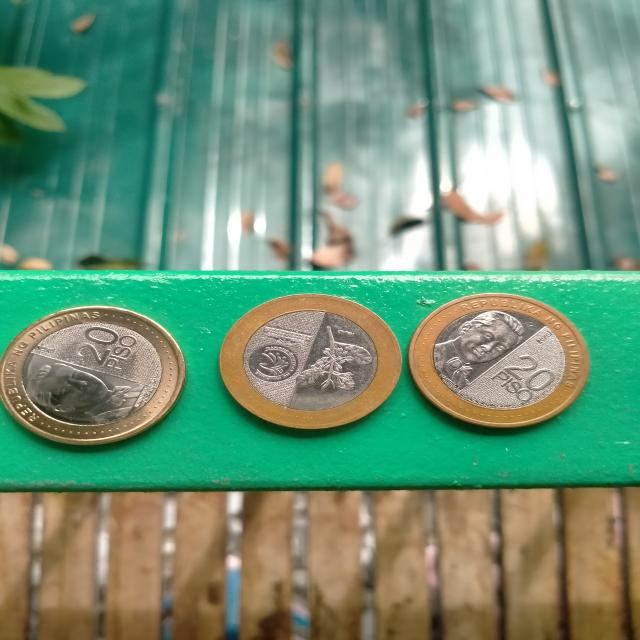20_New_Back: (295, 313, 379, 404)
20_New_Front: (487, 352, 570, 408), (69, 325, 141, 375)
